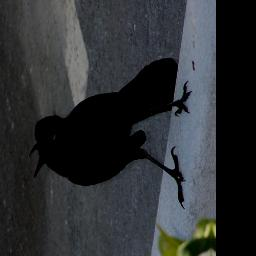Crow: (27, 54, 192, 209)
